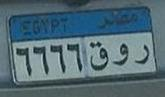6: (14, 46, 31, 79), (33, 45, 47, 75), (68, 43, 81, 72), (51, 43, 64, 72)
qaaf: (89, 42, 109, 71)
raa: (136, 42, 150, 66)
waw: (112, 44, 130, 66)
